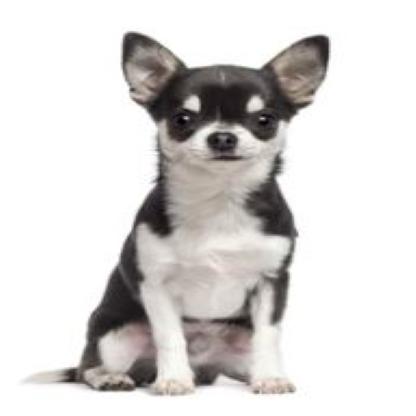chihuahua: (18, 28, 333, 394)
